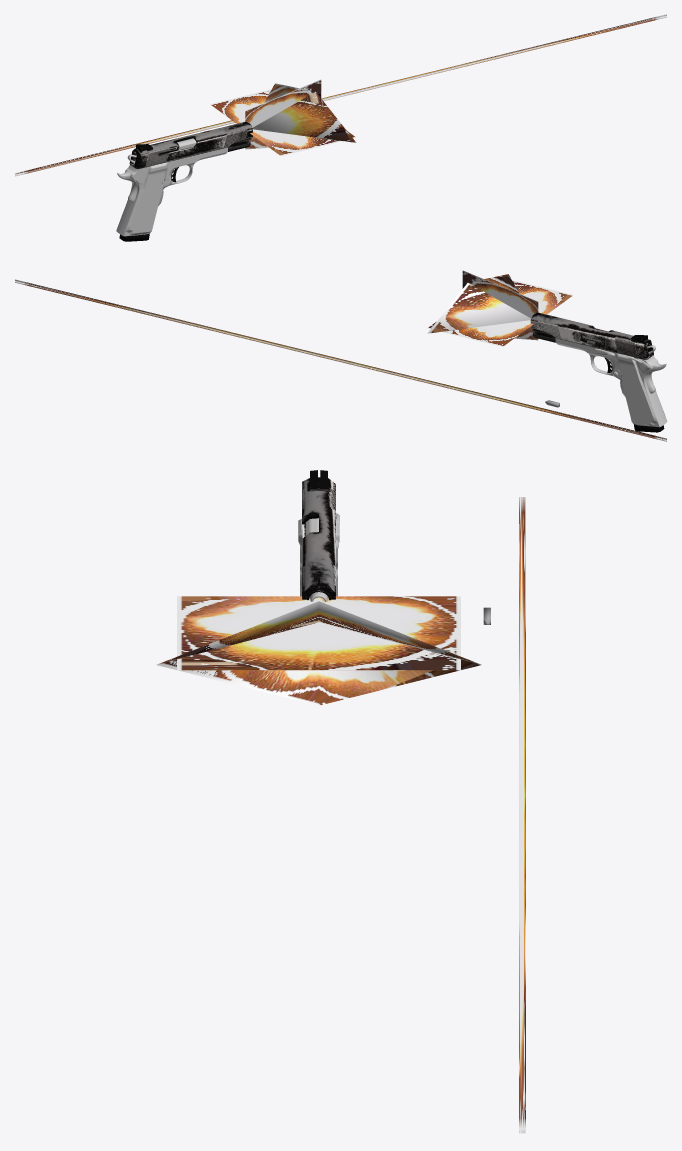
File: handgun_tri.obj
The picture shows the model from 3 angles, top to bottom: view 1: azimuth 30°, elevation 25°; view 2: azimuth 150°, elevation 25°; view 3: azimuth 270°, elevation 25°; orthographic projection. The views are drawn at different scales.
Parts seen in each view (by area): view 1: muzzle_fire_Plane.002, Gun_Cube.001, Cube.005_Cube.000, bullet_Cube.005; view 2: muzzle_fire_Plane.002, Gun_Cube.001, Cube.005_Cube.000, bullet_Cube.005; view 3: muzzle_fire_Plane.002, bullet_Cube.005, Cube.005_Cube.000.
Part boxes in pixels (x1=…): muzzle_fire_Plane.002: x1=210, y1=79, x2=356, y2=155; Gun_Cube.001: x1=116, y1=138, x2=227, y2=236; Cube.005_Cube.000: x1=129, y1=122, x2=252, y2=169; bullet_Cube.005: x1=14, y1=14, x2=667, y2=176; muzzle_fire_Plane.002: x1=427, y1=270, x2=573, y2=346; Gun_Cube.001: x1=555, y1=338, x2=667, y2=427; Cube.005_Cube.000: x1=530, y1=312, x2=653, y2=359; bullet_Cube.005: x1=14, y1=279, x2=667, y2=441; muzzle_fire_Plane.002: x1=156, y1=596, x2=481, y2=705; bullet_Cube.005: x1=519, y1=497, x2=525, y2=1133; Cube.005_Cube.000: x1=302, y1=470, x2=335, y2=600.
Bounding box in the file's own units: 9.03 × 1.54 × 2.22.
Materials: 5 (3 with a texture image).
